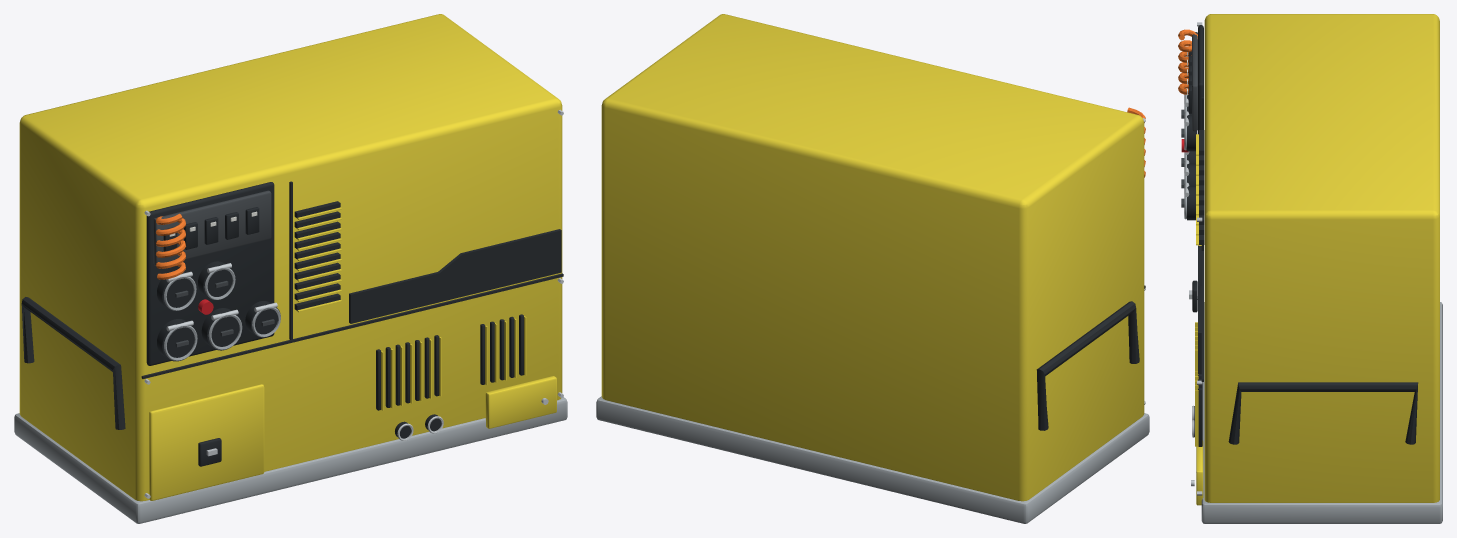
File: generator.glb
3 renders of one model, left to right at view 1: azimuth 30°, elevation 25°; view 2: azimuth 150°, elevation 25°; view 3: azimuth 270°, elevation 25°, orthographic. The views are drawn at different scales.
Parts seen in each view (by area): view 1: generator; view 2: generator; view 3: generator.
Part boxes in pixels (x1,y1,x2,y2): generator: (14,14,567,523); generator: (596,14,1149,523); generator: (1178,14,1442,523).
Bounding box in the file's own units: 0.82 × 0.58 × 0.44.
